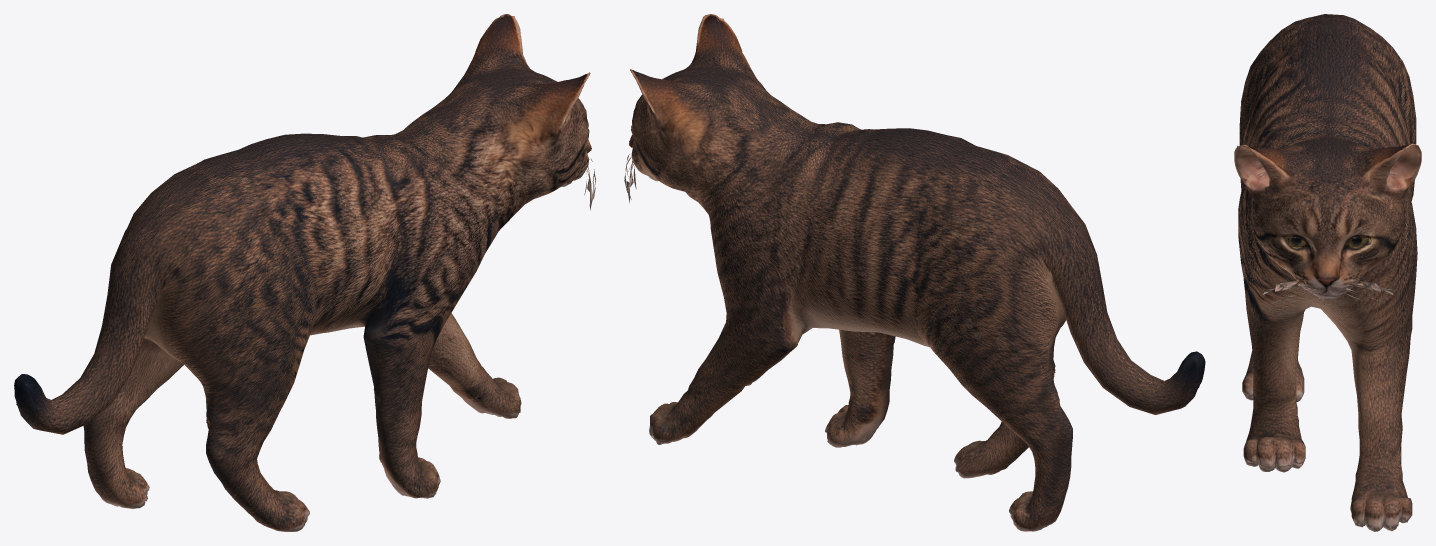
File: shadow.glb
3 views of the same model, side by side, from view 1: azimuth 30°, elevation 25°; view 2: azimuth 150°, elevation 25°; view 3: azimuth 270°, elevation 25° (orthographic). The views are drawn at different scales.
Parts seen in each view (by area): view 1: Model_0; view 2: Model_0; view 3: Model_0.
Part boxes in pixels (x1=…): Model_0: x1=14, y1=14, x2=595, y2=531; Model_0: x1=624, y1=14, x2=1205, y2=531; Model_0: x1=1234, y1=14, x2=1421, y2=531.
Size of the model in its own units: 1 by 0.6439 by 0.272.
Materials: 1 (1 with a texture image).
